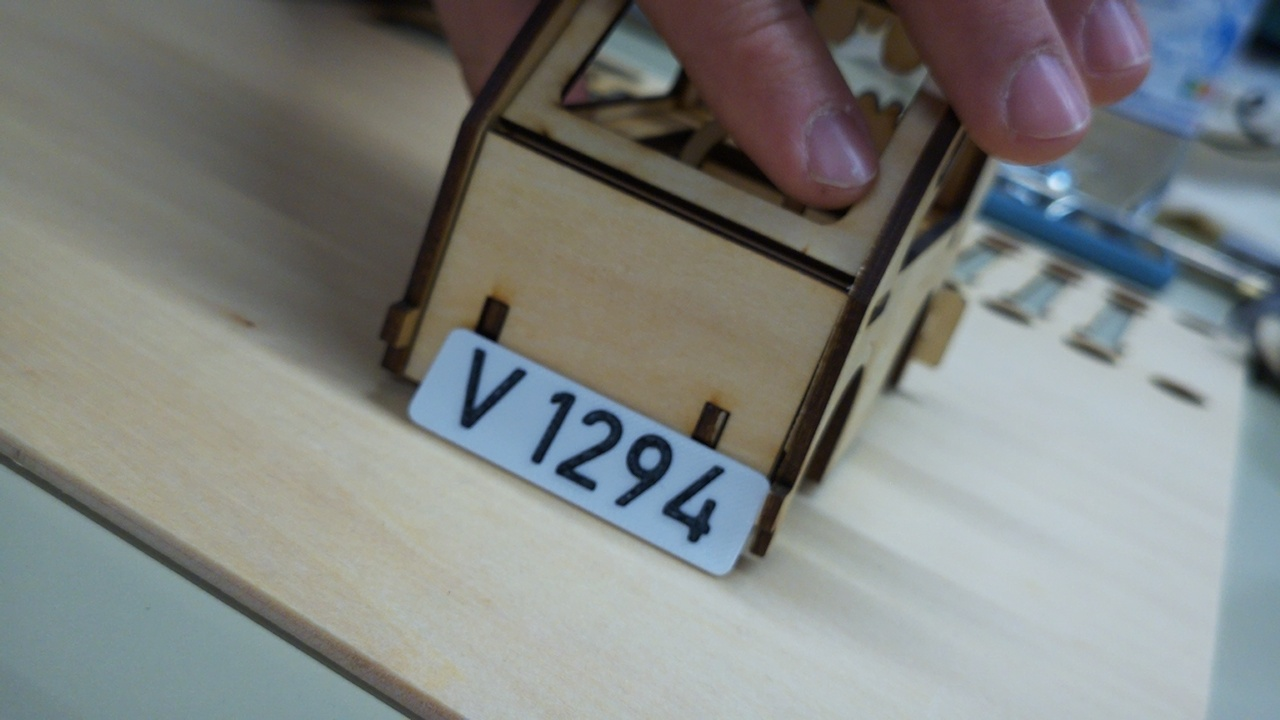license_plate: (404, 324, 773, 578)
